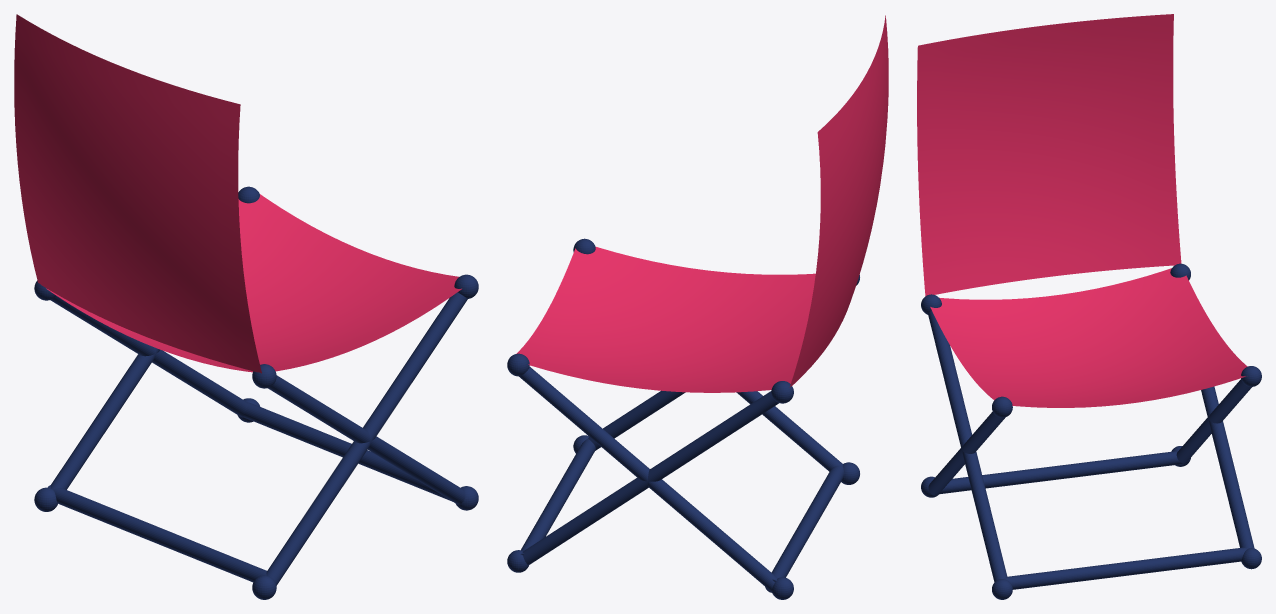
Rendered from chair 1.fbx.
The picture shows the model from 3 angles, left to right: view 1: azimuth 30°, elevation 25°; view 2: azimuth 150°, elevation 25°; view 3: azimuth 270°, elevation 25°; orthographic projection. The views are drawn at different scales.
Visible parts, largest first — view 1: SurfPatch.002, Sphere.002; view 2: SurfPatch.002, Sphere.002; view 3: SurfPatch.002, Sphere.002.
Boxes of the visible parts, bbox=[...] form: SurfPatch.002: bbox=[14, 14, 461, 373]; Sphere.002: bbox=[34, 186, 478, 599]; SurfPatch.002: bbox=[516, 15, 888, 392]; Sphere.002: bbox=[507, 238, 859, 599]; SurfPatch.002: bbox=[917, 14, 1247, 407]; Sphere.002: bbox=[921, 263, 1261, 599].
Bounding box in the file's own units: 155 × 206 × 147.
